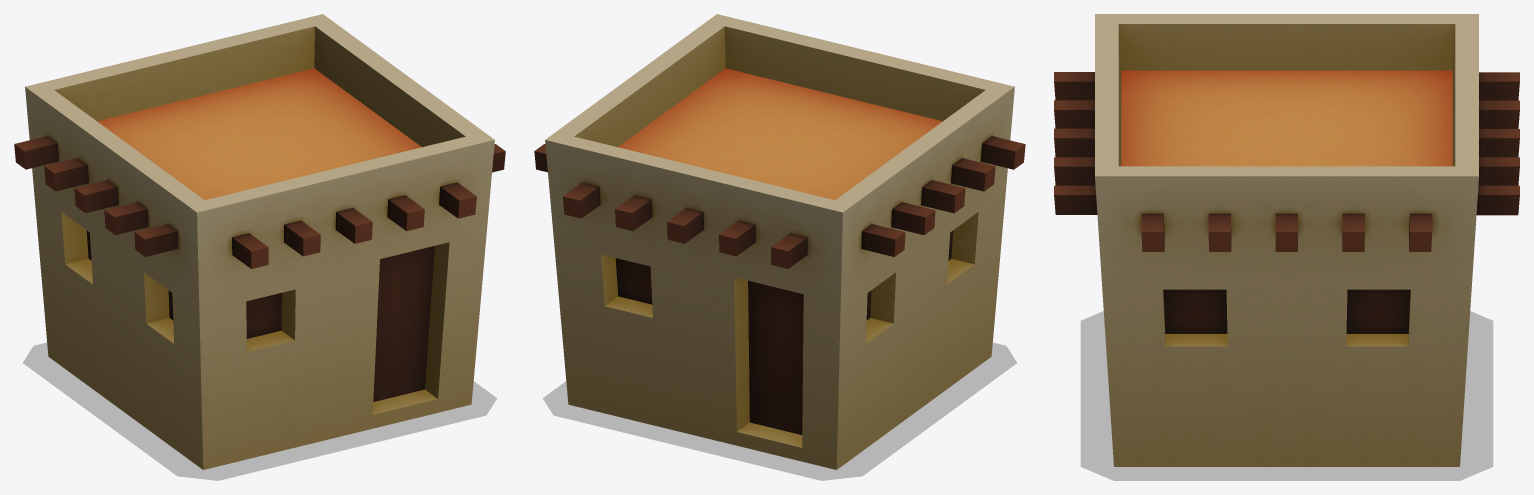
The model's file is 2x2_house.FBX.
3 views of the same model, side by side, from view 1: azimuth 30°, elevation 25°; view 2: azimuth 150°, elevation 25°; view 3: azimuth 270°, elevation 25° (orthographic). The views are drawn at different scales.
Parts seen in each view (by area): view 1: 2x2_house, 2x2_house_soft_shadow; view 2: 2x2_house, 2x2_house_soft_shadow; view 3: 2x2_house, 2x2_house_soft_shadow.
Part boxes in pixels (x1,y1,x2,y2): 2x2_house: (14, 14, 505, 469); 2x2_house_soft_shadow: (23, 342, 497, 480); 2x2_house: (534, 14, 1025, 469); 2x2_house_soft_shadow: (542, 342, 1016, 480); 2x2_house: (1054, 14, 1519, 466); 2x2_house_soft_shadow: (1080, 311, 1493, 480).
Bounding box in the file's own units: 2281 × 1623 × 2281.
